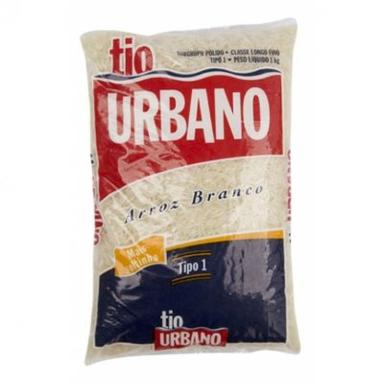rice package: (82, 20, 299, 363)
